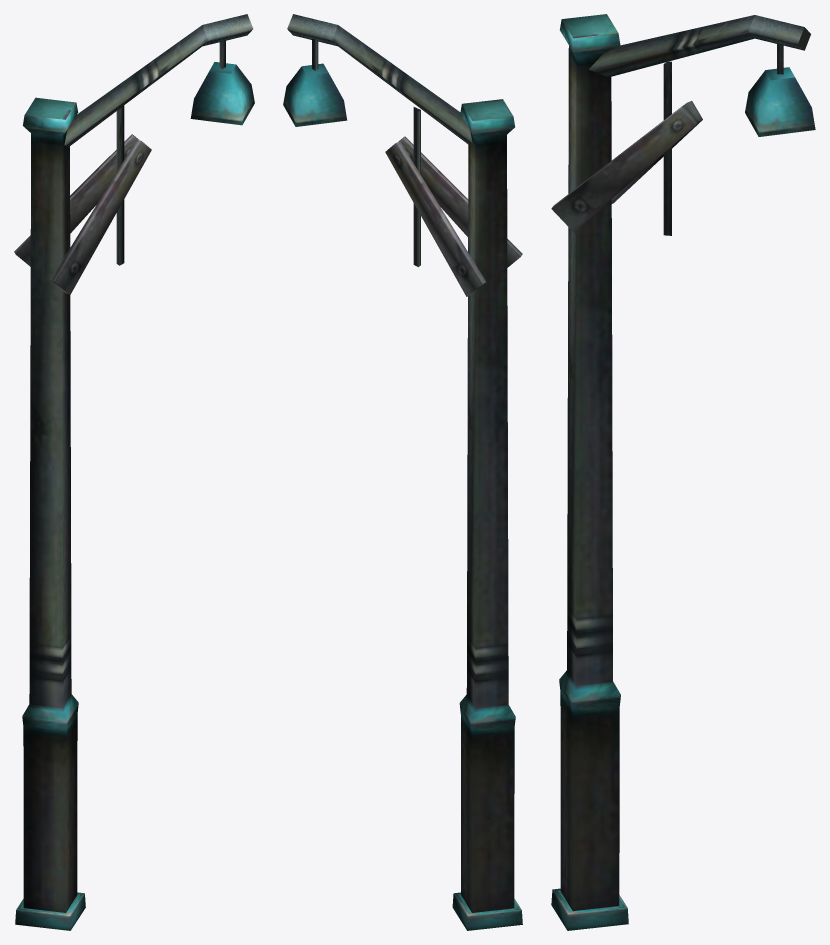
File: yw_huanghunbianjing_ludeng01.FBX
The picture shows the model from 3 angles, left to right: view 1: azimuth 30°, elevation 25°; view 2: azimuth 150°, elevation 25°; view 3: azimuth 330°, elevation 25°; orthographic projection. The views are drawn at different scales.
Visible parts, largest first — view 1: yw_huanghunbianjing_ludeng01; view 2: yw_huanghunbianjing_ludeng01; view 3: yw_huanghunbianjing_ludeng01.
Boxes of the visible parts, x1,y1,x2,y2 form: yw_huanghunbianjing_ludeng01: (14,14,254,930); yw_huanghunbianjing_ludeng01: (283,14,522,930); yw_huanghunbianjing_ludeng01: (551,14,815,930).
Bounding box in the file's own units: 82.43 × 281 × 24.78.
